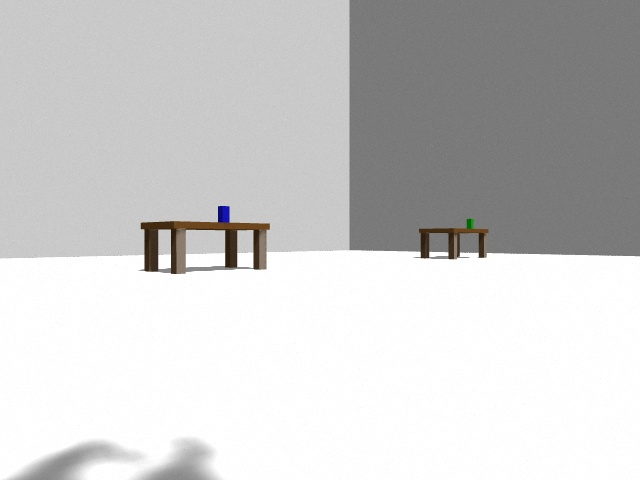blue_cube: (218, 206, 230, 223)
green_cube: (467, 219, 474, 229)
